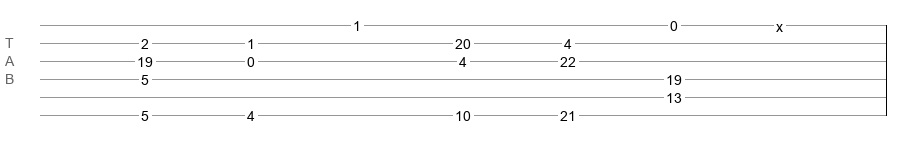0: (247, 54, 255, 64), (670, 18, 678, 28)
1: (247, 36, 255, 46), (353, 18, 361, 28)
10: (455, 108, 471, 118)
13: (666, 90, 682, 100)
19: (137, 54, 153, 64), (666, 72, 682, 82)
2: (141, 36, 149, 46)
20: (455, 36, 471, 46)
21: (560, 108, 576, 118)
22: (560, 54, 576, 64)
4: (247, 108, 255, 118), (459, 54, 467, 64), (564, 36, 572, 46)
5: (141, 108, 149, 118), (141, 72, 149, 82)
x: (776, 19, 783, 27)
